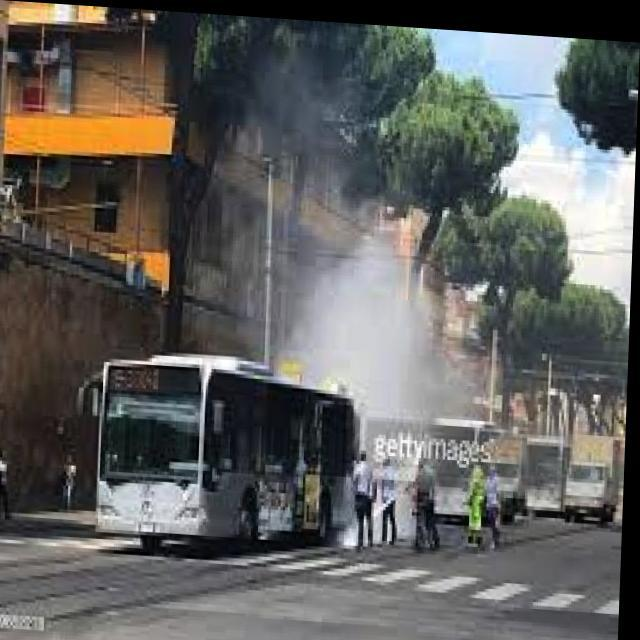Smoke: (174, 28, 508, 568)
